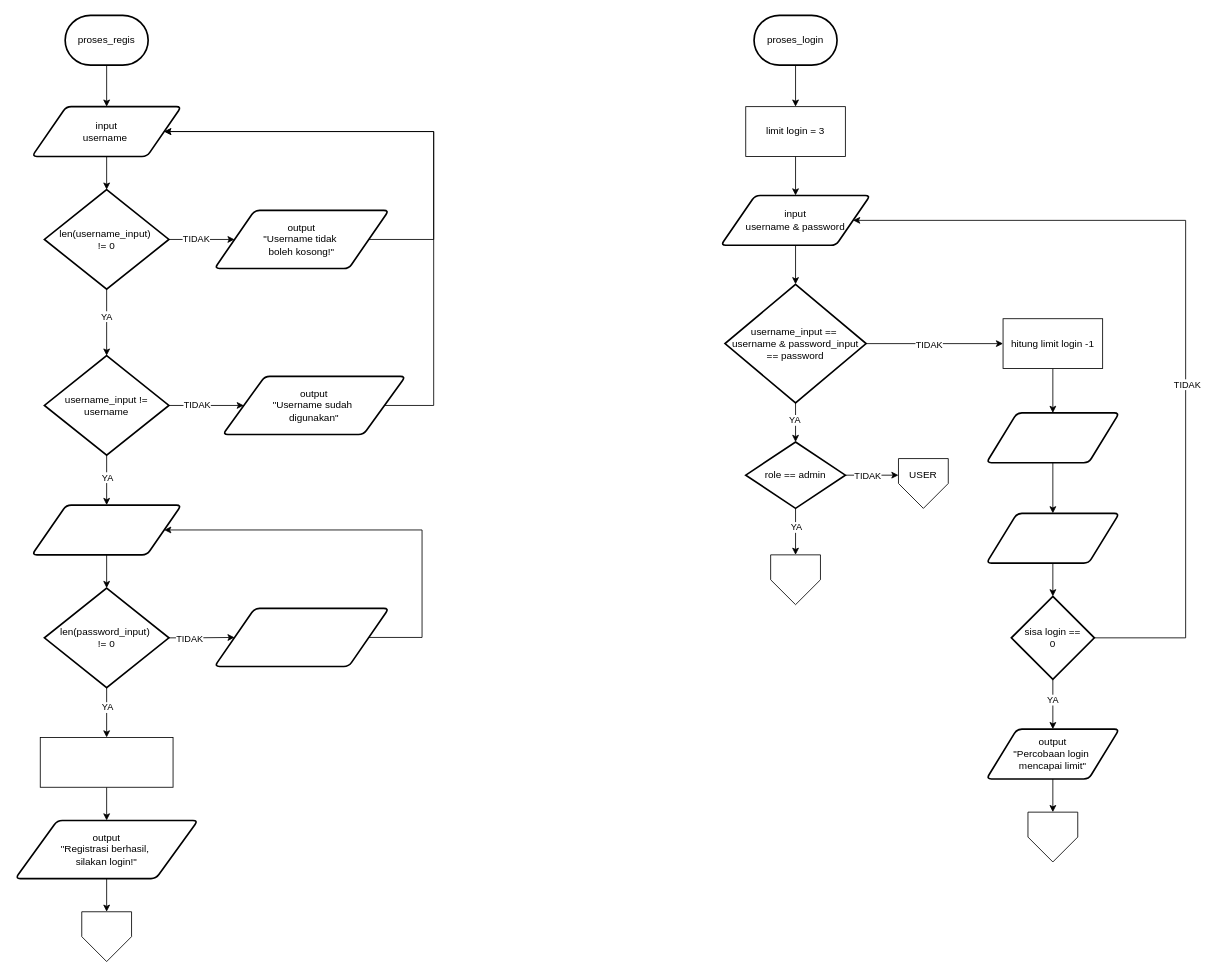
This 1214x976 diagram has some shape labels left out. The shapes that lost their labels are listed below. From the top down, each one's centre as x and y in pixels, then its label:
(x=1052, y=437): output "Username / password salah"
(x=106, y=529): input password
(x=1052, y=538): output sisa login
(x=795, y=579): ADMIN
(x=301, y=637): output "Password tidak boleh kosong!"
(x=106, y=762): username & password ditambahkan
(x=1052, y=836): EXIT
(x=106, y=936): Menu
